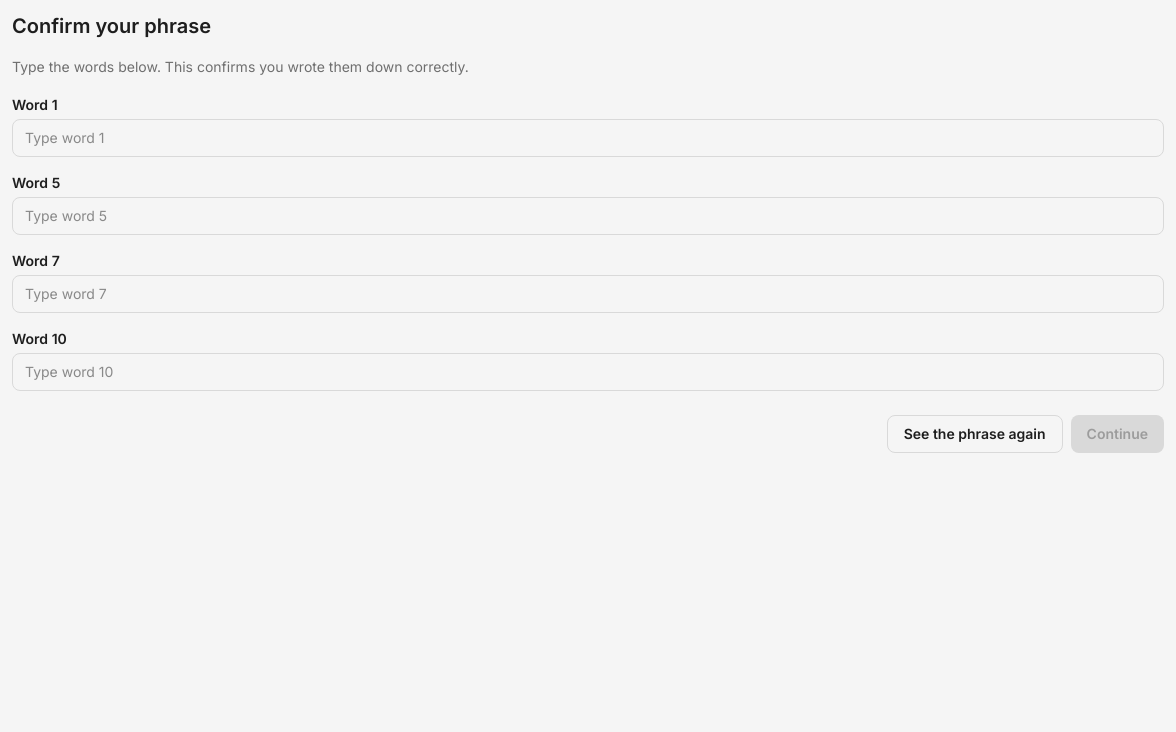
confirming the phrase › stays locked while any answer is wrong
Expected: the button "Continue" is disabled, x1=1071 y1=415 x2=1164 y2=453
Type "apple" into the field labelled "Word 1" at (588, 138), box x1=12 y1=119 x2=1164 y2=157
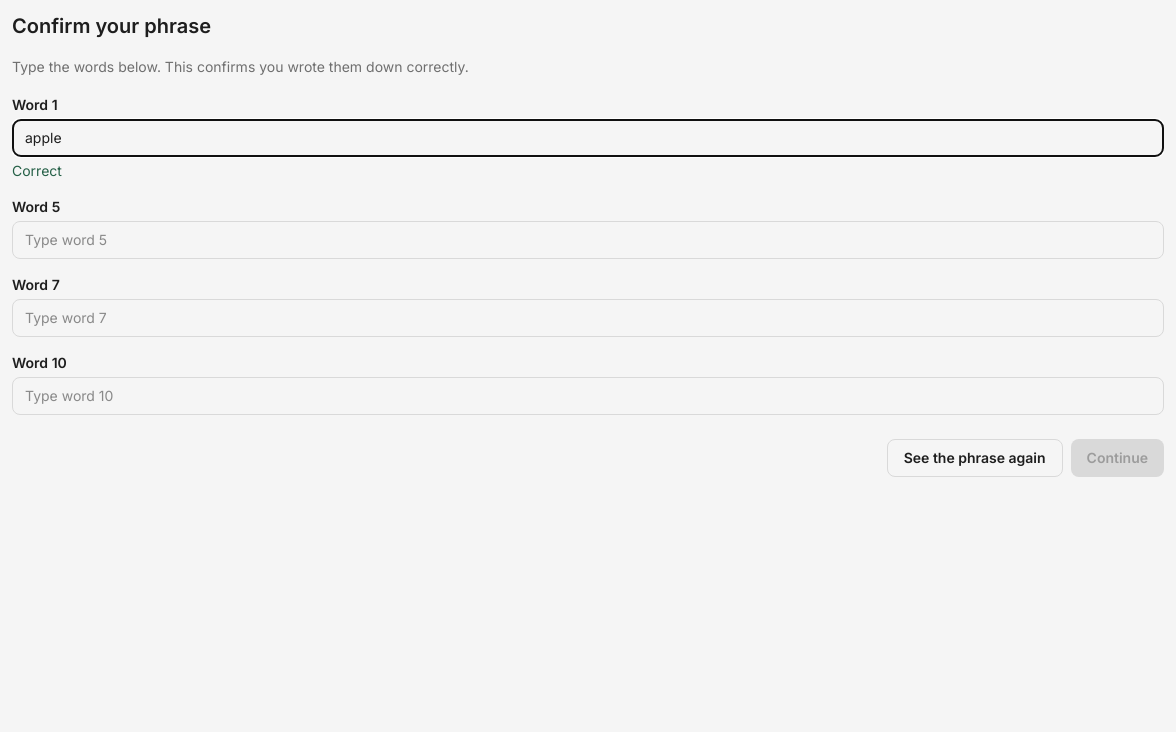
Type "candel" into the field labelled "Word 5" at (588, 240), box x1=12 y1=221 x2=1164 y2=259
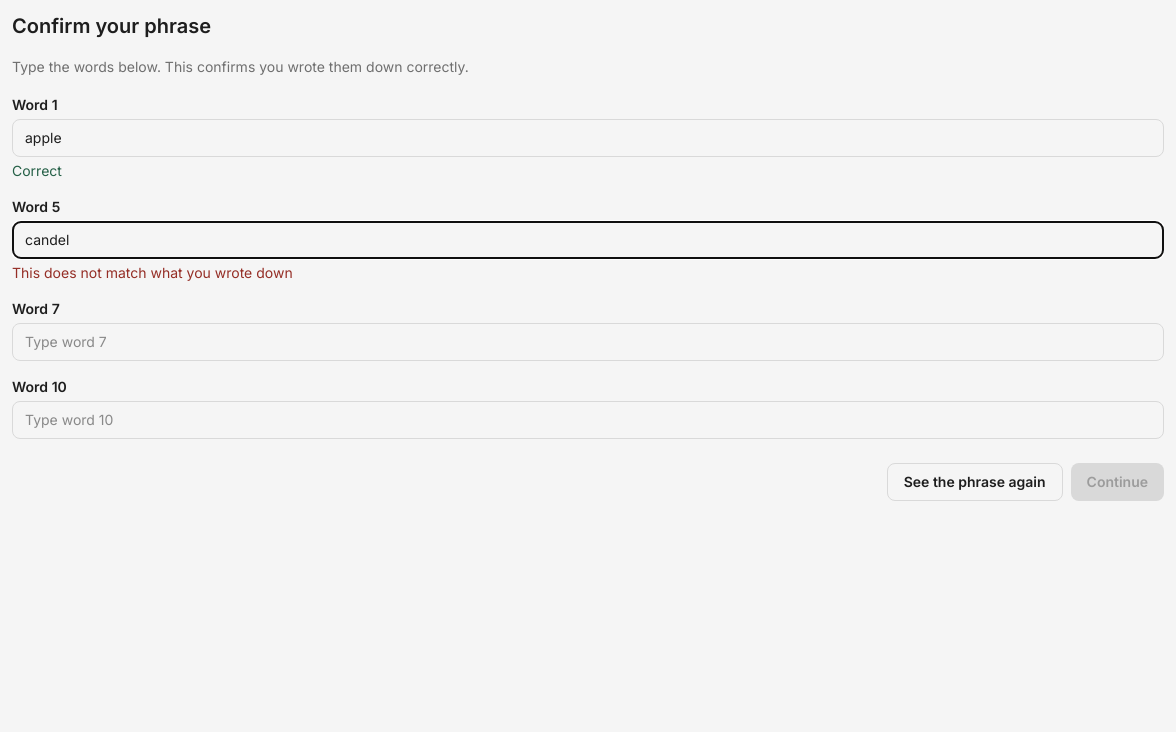
Expected: the button "Continue" is disabled, x1=1071 y1=463 x2=1164 y2=501
Expected: the text "This does not match what you wrote down" is shown, x1=12 y1=264 x2=293 y2=281
